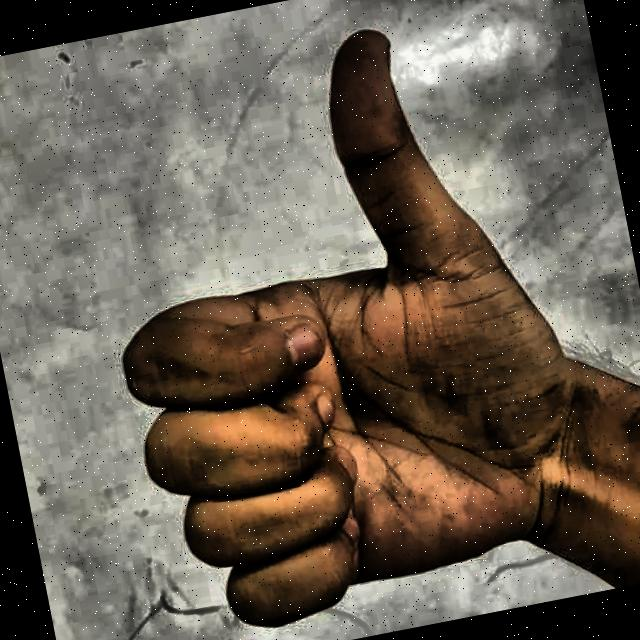Do: (30, 0, 596, 640)
